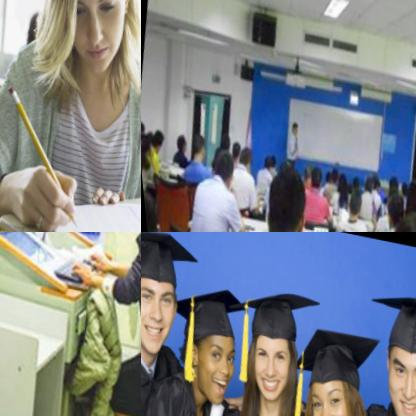head: (230, 292, 310, 416), (167, 289, 246, 408), (29, 0, 141, 78), (281, 324, 374, 416), (141, 232, 191, 364), (366, 285, 416, 416), (250, 159, 312, 232), (201, 142, 235, 193), (370, 201, 416, 232), (337, 182, 359, 217), (376, 186, 400, 218), (180, 128, 203, 160), (230, 142, 253, 174), (167, 127, 189, 158), (293, 156, 311, 184), (302, 159, 318, 190), (398, 172, 416, 198), (144, 127, 161, 153), (210, 124, 227, 150), (354, 170, 371, 195), (342, 167, 357, 190), (322, 159, 336, 182), (223, 136, 236, 159), (331, 165, 344, 187), (256, 150, 268, 171), (317, 161, 329, 181), (363, 166, 375, 186), (284, 117, 297, 134), (263, 148, 273, 164)
